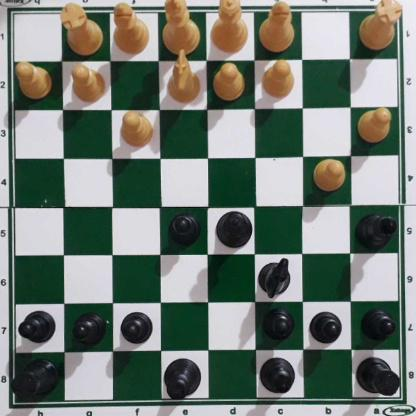black-bishop: (354, 214, 400, 250), (257, 357, 298, 394)
black-king: (162, 357, 203, 402)
black-knight: (260, 261, 293, 300)
black-pawn: (20, 311, 56, 347), (121, 313, 154, 347), (362, 312, 396, 344), (73, 315, 105, 349), (168, 214, 200, 248), (264, 311, 295, 346), (312, 312, 343, 346)
black-queen: (217, 212, 254, 250)
black-rook: (14, 361, 58, 406), (357, 358, 404, 400)
white-bishop: (113, 5, 150, 55), (262, 3, 295, 56)
white-king: (163, 2, 201, 58)
white-knight: (165, 49, 202, 105)
white-pawn: (69, 66, 107, 106), (16, 65, 53, 102), (312, 159, 349, 196), (358, 108, 395, 144), (262, 62, 296, 101), (121, 112, 155, 150), (214, 65, 247, 103)
white-queen: (211, 0, 250, 55)
white-rook: (361, 0, 401, 56), (63, 7, 104, 53)
